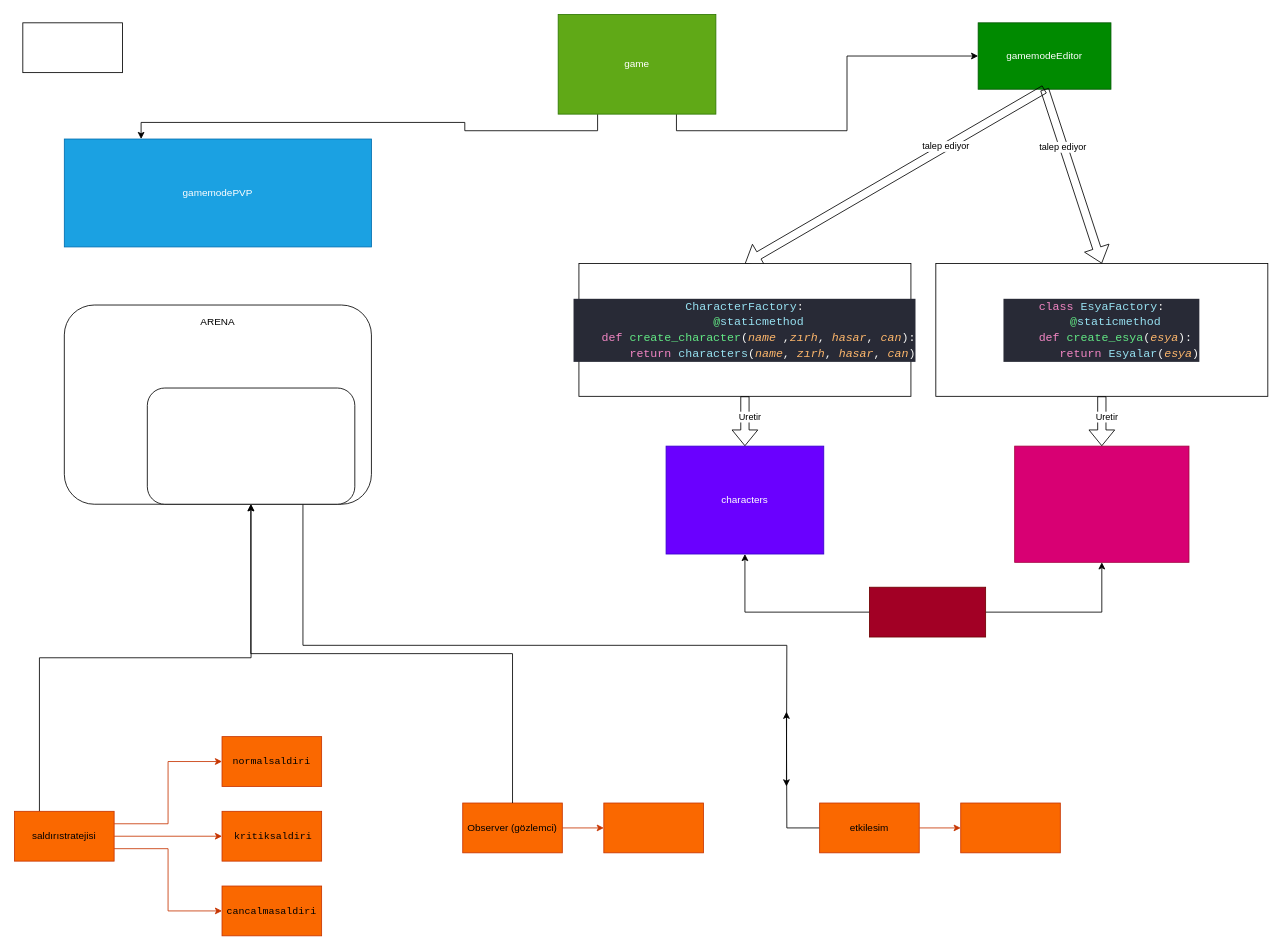
Some shapes in this 1282 by 950 pixel diagram are drawn without their labels. Each missing label, with the centre of its shape:
esyaetkisi: the point at 1010,827
esyalar: the point at 1101,503
gameobjects: the point at 927,611
savaskarakteri: the point at 250,445
savasspikeri: the point at 653,827
verikutuphanesi: the point at 72,47
